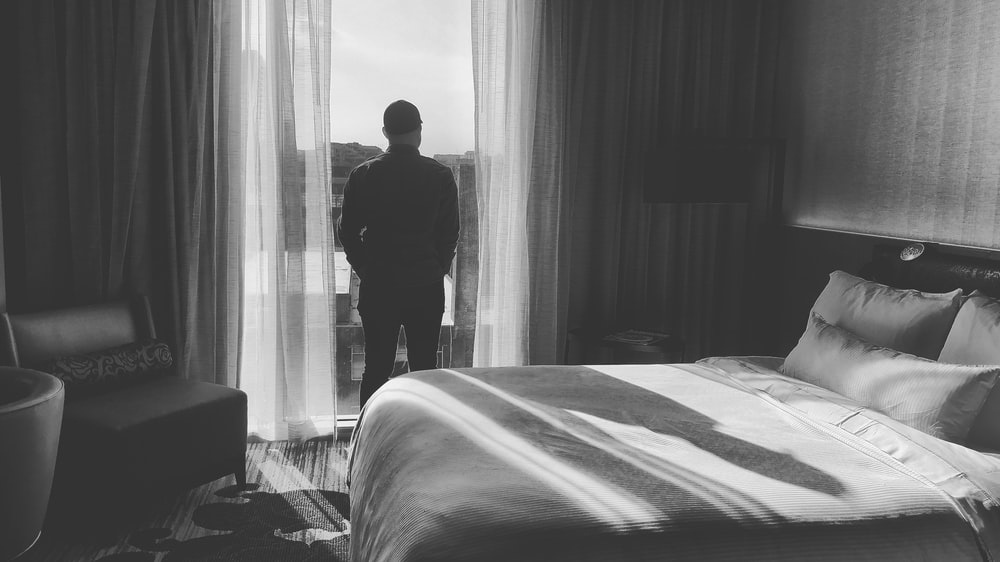not_fallen: (318, 82, 480, 432)
